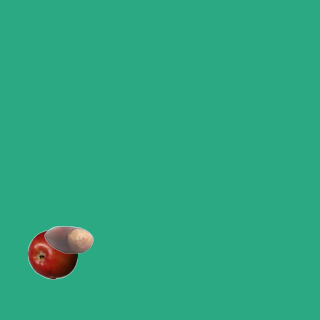Apple Braeburn: (27, 229, 77, 279)
Hazelnut: (43, 214, 93, 264)
